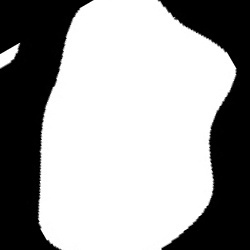crack: (1, 44, 19, 65)
